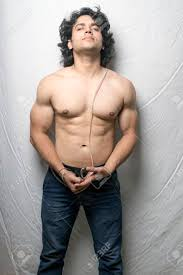Indian_Male: (68, 14, 106, 64)
